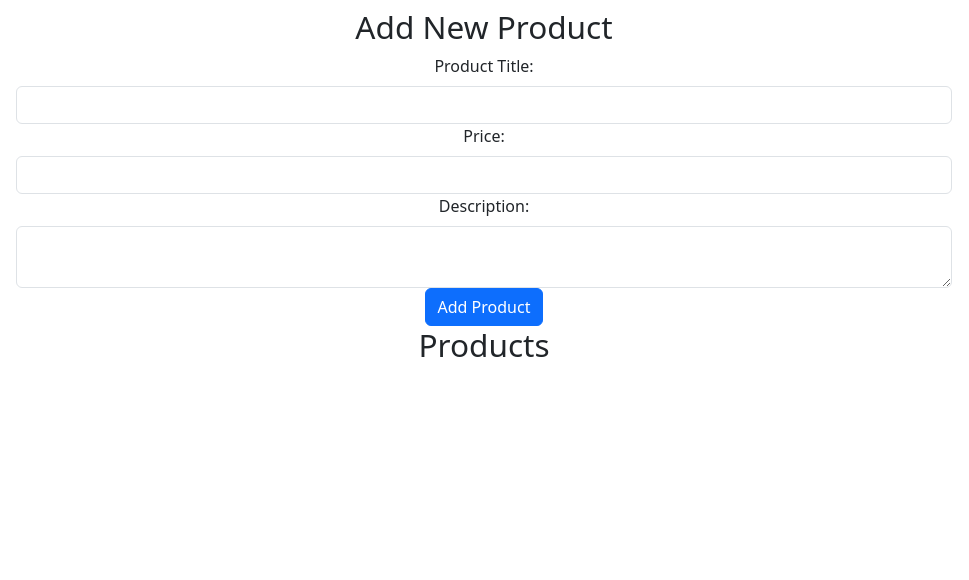
Test: CRUDProduct Component › creates a new product
This screenshot has width=969, height=580.
Type "Product B" into the field labelled "Product Title:" at (484, 105), box top-left (16, 86), bottom-right (952, 124)
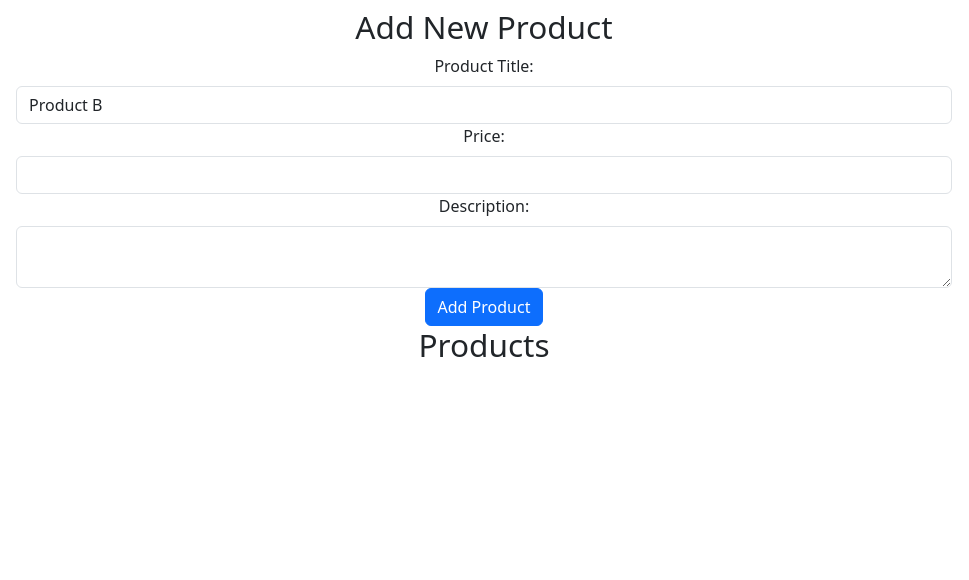
Type "29.99" into the number field labelled "Price:" at (484, 175), box top-left (16, 156), bottom-right (952, 194)
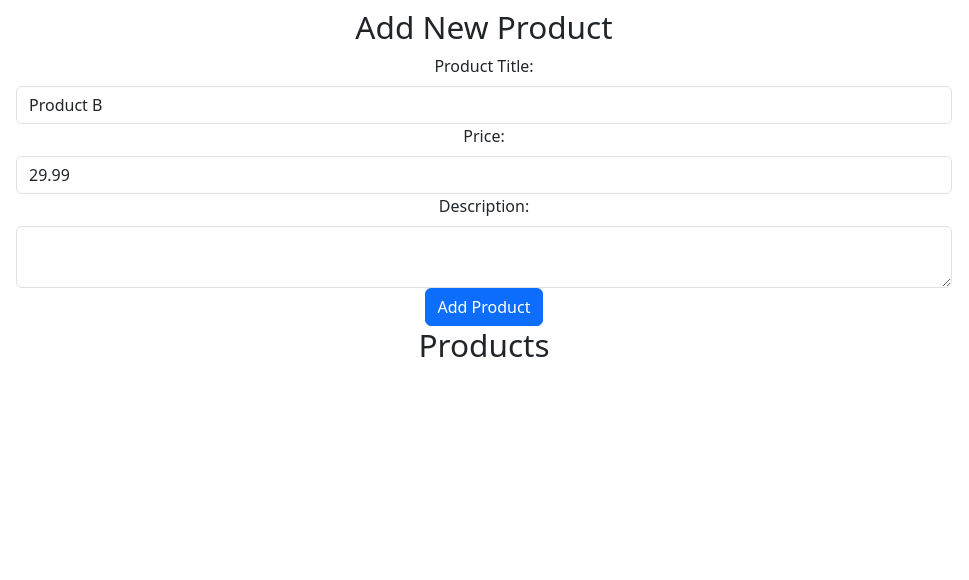
Type "This is a test for adding a new product." into the text box labelled "Description:" at (484, 257), box top-left (16, 226), bottom-right (952, 288)
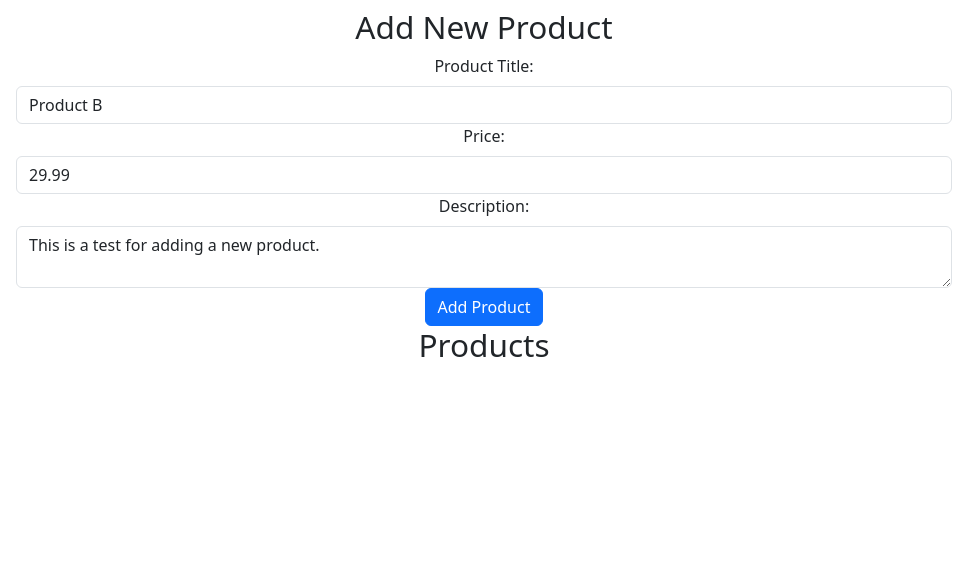
Click the button "Add Product" at (484, 307), box top-left (424, 288), bottom-right (543, 326)
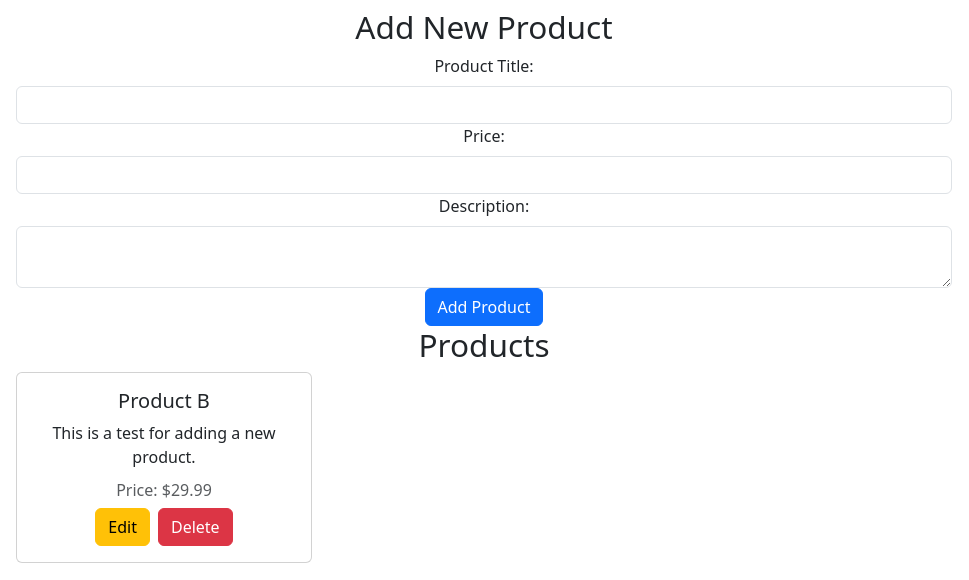
Expected: the text "Product B" is shown, top-left (118, 387), bottom-right (210, 414)
Expected: the text "This is a test for adding a new product." is shown, top-left (33, 421), bottom-right (295, 469)
Expected: the text "Price: $29.99" is shown, top-left (116, 479), bottom-right (212, 501)
